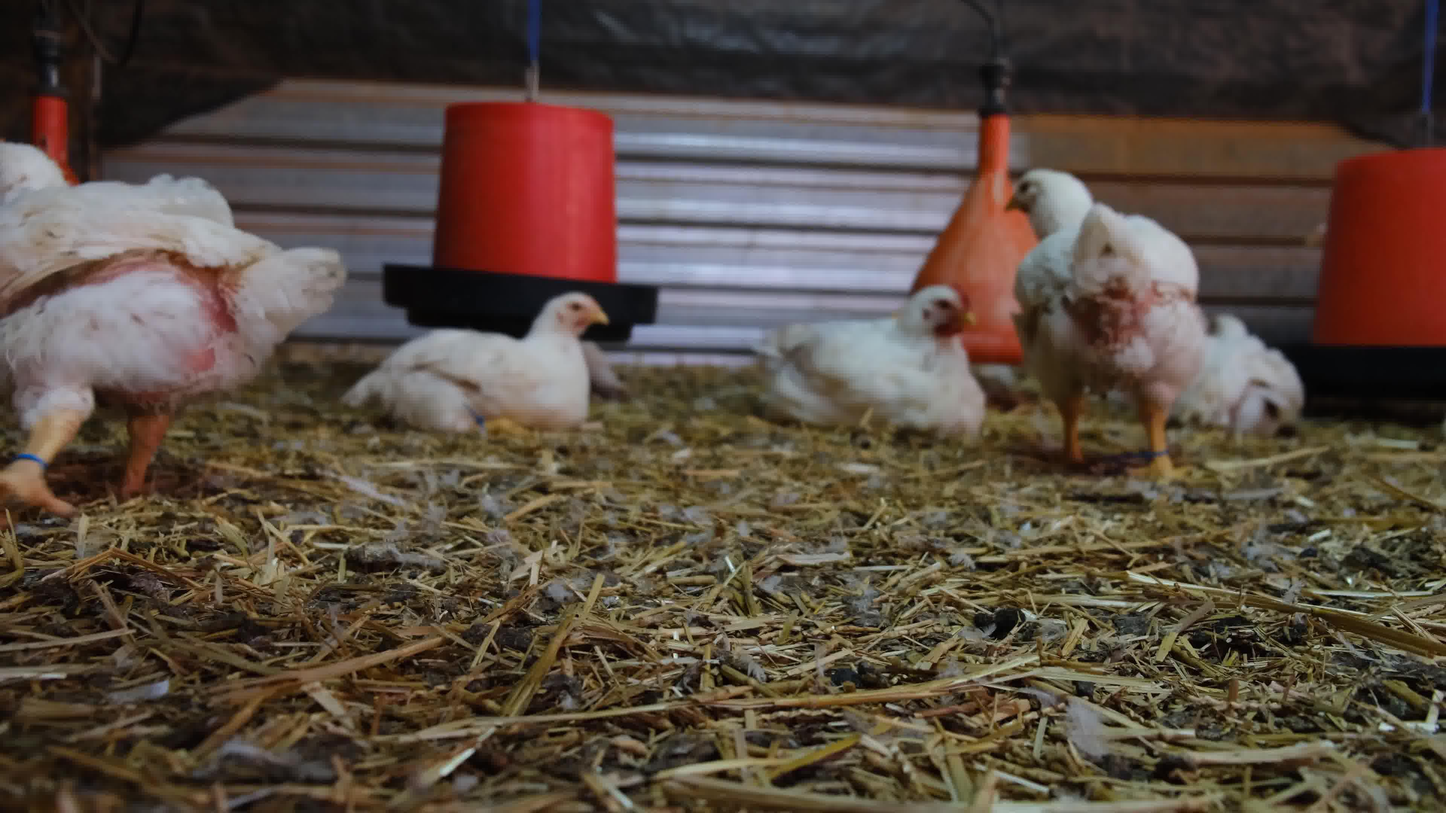AbNormal: (341, 288, 610, 431), (748, 285, 994, 432), (1171, 309, 1305, 441)
Normal: (0, 130, 346, 527), (1002, 166, 1194, 482)
